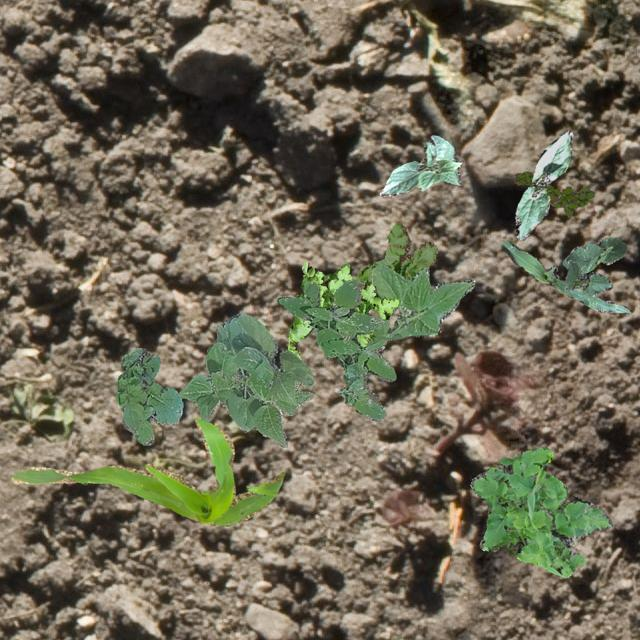crop: (10, 416, 284, 524), (178, 312, 312, 446), (502, 240, 630, 312), (364, 264, 474, 346), (514, 130, 572, 240), (378, 134, 461, 196), (562, 236, 626, 274), (564, 258, 610, 294)
weed: (468, 446, 610, 576), (276, 278, 394, 421), (286, 260, 398, 358), (115, 346, 182, 444), (352, 220, 437, 288), (512, 170, 594, 218)
